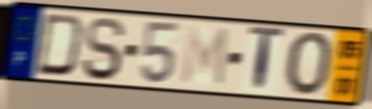5: (139, 21, 183, 87)
D: (33, 12, 87, 80)
M: (179, 24, 231, 90)
O: (284, 30, 336, 99)
S: (79, 15, 128, 83)
T: (246, 24, 287, 97)
